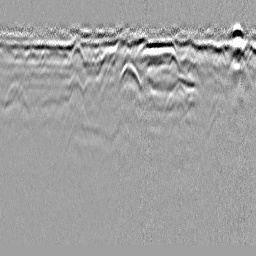cavity: (117, 59, 142, 89)
